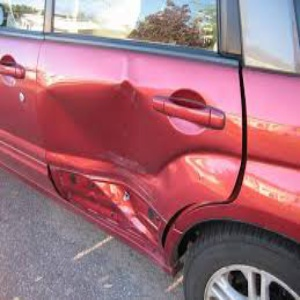door: (30, 71, 198, 232)
